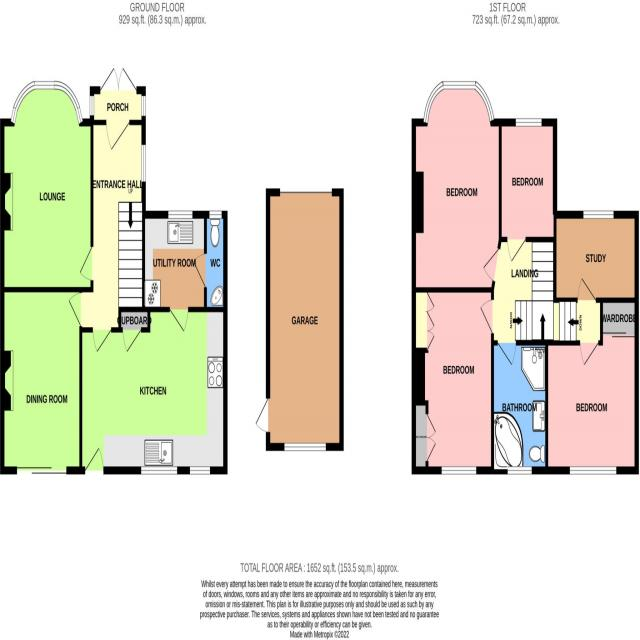DOOR: (105, 119, 130, 152), (483, 247, 501, 283), (67, 291, 83, 329), (84, 446, 104, 474), (79, 245, 94, 282), (92, 327, 112, 354), (192, 252, 207, 288), (579, 340, 599, 366), (497, 340, 517, 366), (506, 237, 526, 263), (577, 277, 597, 303), (169, 307, 189, 333), (480, 298, 494, 335)
ROOM: (79, 306, 228, 475), (0, 81, 94, 293), (411, 80, 502, 293), (545, 297, 639, 475), (411, 287, 494, 474), (0, 286, 82, 475), (499, 118, 557, 262), (553, 210, 639, 304)
WINDOW: (10, 80, 84, 126), (423, 80, 495, 125), (569, 466, 617, 475), (140, 466, 178, 476), (441, 465, 477, 475), (583, 210, 615, 220), (515, 118, 542, 127), (507, 466, 532, 475), (168, 210, 193, 219), (189, 466, 211, 475), (141, 144, 146, 183), (209, 210, 222, 219)
